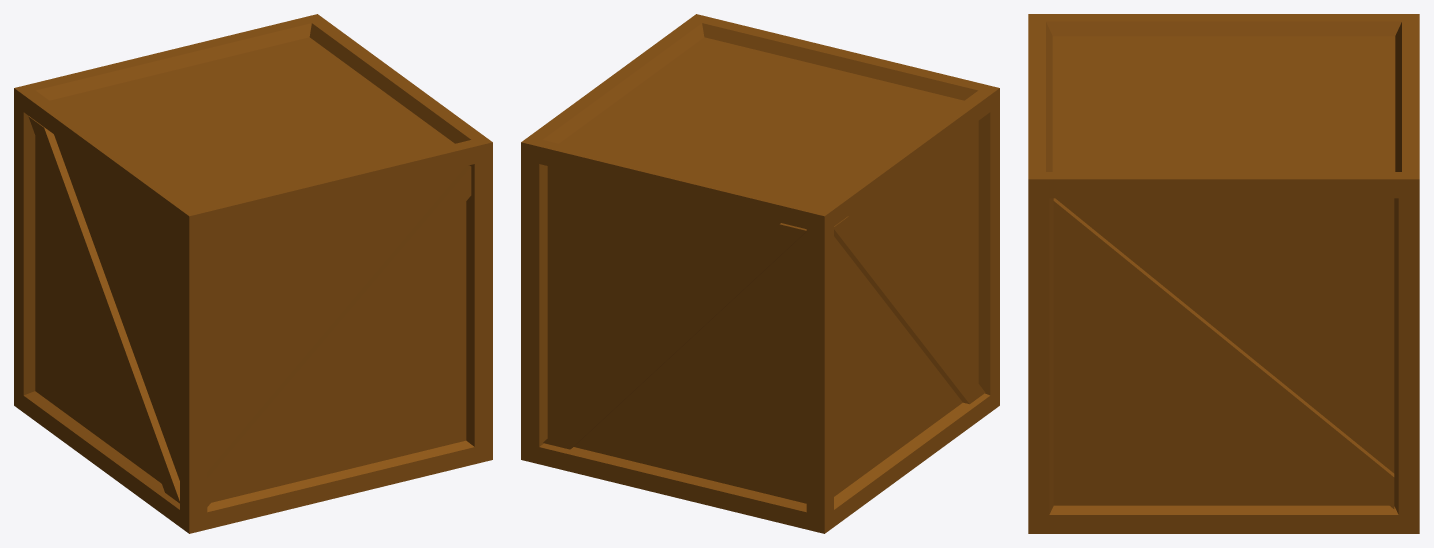
3 renders of one model, left to right at view 1: azimuth 30°, elevation 25°; view 2: azimuth 150°, elevation 25°; view 3: azimuth 270°, elevation 25°, orthographic. The views are drawn at different scales.
Visible parts, largest first — view 1: Cube.013; view 2: Cube.013; view 3: Cube.013.
Boxes of the visible parts, bbox=[...] form: Cube.013: bbox=[14, 14, 492, 533]; Cube.013: bbox=[521, 14, 999, 533]; Cube.013: bbox=[1028, 14, 1419, 533].
Size of the model in its own units: 75.63 by 75.63 by 75.63.
